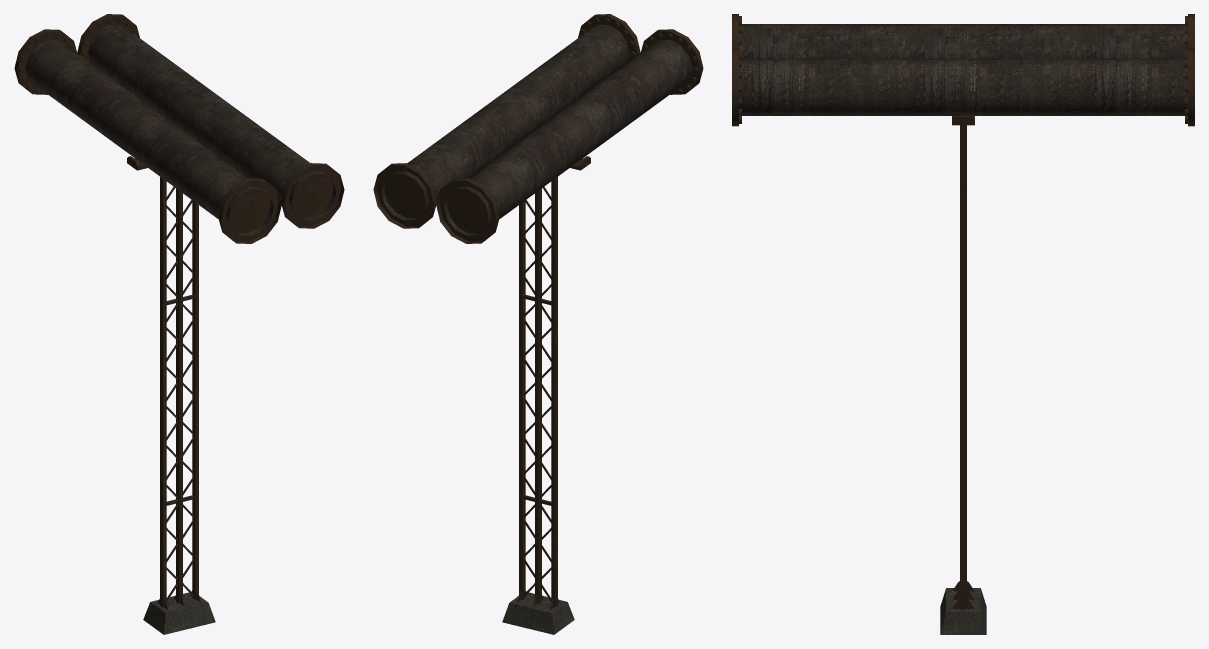
Rendered from pipe_dx_2.glb.
3 views of the same model, side by side, from view 1: azimuth 30°, elevation 25°; view 2: azimuth 150°, elevation 25°; view 3: azimuth 270°, elevation 25° (orthographic). The views are drawn at different scales.
Parts seen in each view (by area): view 1: pipe_dx_2; view 2: pipe_dx_2; view 3: pipe_dx_2.
Boxes of the visible parts, <box> form: pipe_dx_2: <box>14,14,344,634</box>; pipe_dx_2: <box>373,14,703,634</box>; pipe_dx_2: <box>732,14,1194,634</box>.
Size of the model in its own units: 1.38 by 5.59 by 4.
Materials: 3 (3 with a texture image).
